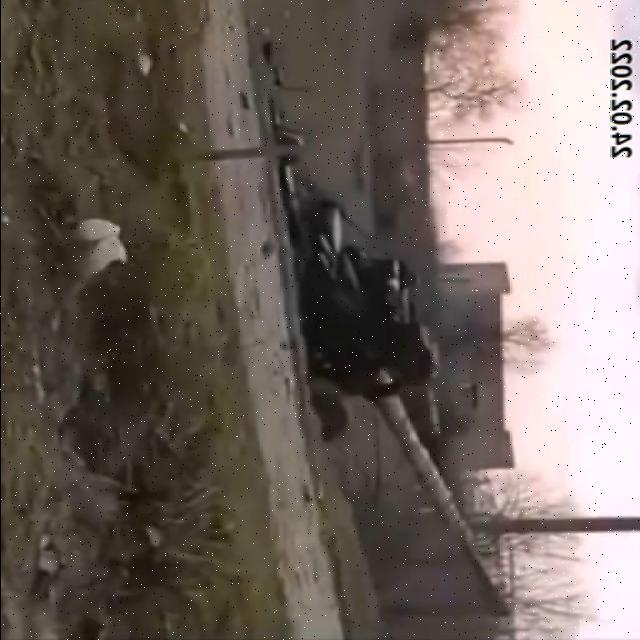ART: (260, 41, 518, 620)
